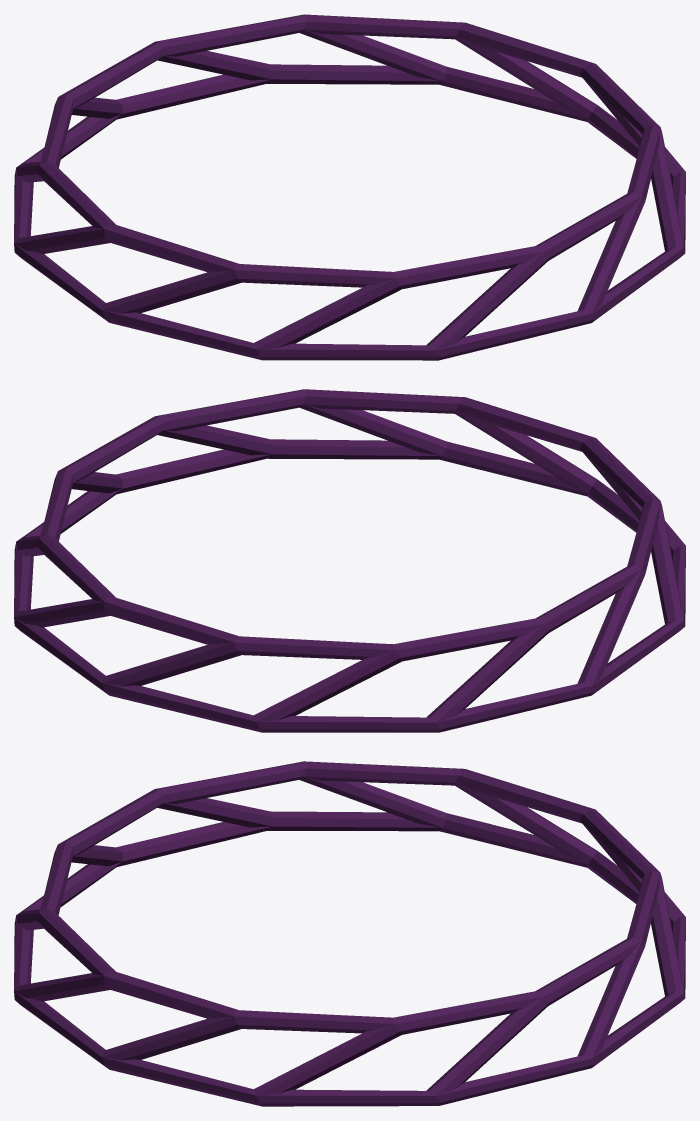
File: boss_UpperRingOuter_MESH.fbx
3 renders of one model, top to bottom at view 1: azimuth 30°, elevation 25°; view 2: azimuth 150°, elevation 25°; view 3: azimuth 270°, elevation 25°, orthographic.
Visible parts, largest first — view 1: boss_UpperRingOuter_MESH; view 2: boss_UpperRingOuter_MESH; view 3: boss_UpperRingOuter_MESH.
Part boxes in pixels (<box>): boss_UpperRingOuter_MESH: <box>14,14,685,360</box>; boss_UpperRingOuter_MESH: <box>14,389,685,732</box>; boss_UpperRingOuter_MESH: <box>14,761,685,1106</box>.
Size of the model in its own units: 6056 by 6056 by 785.
